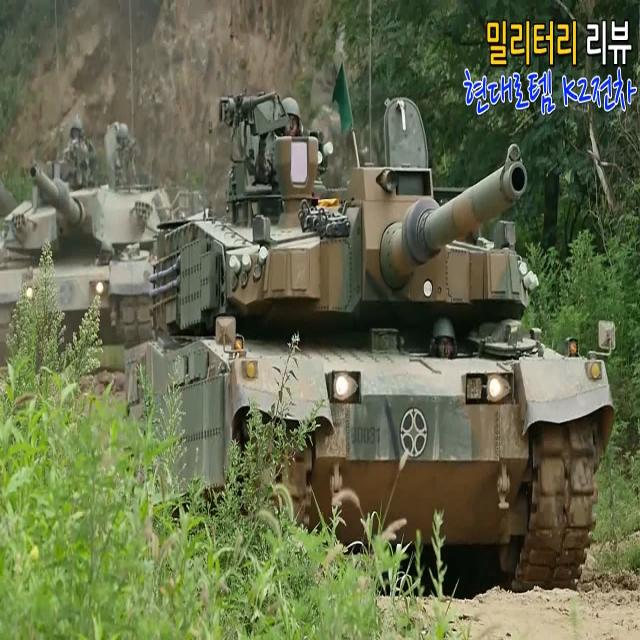korea tank: (127, 90, 618, 593)
